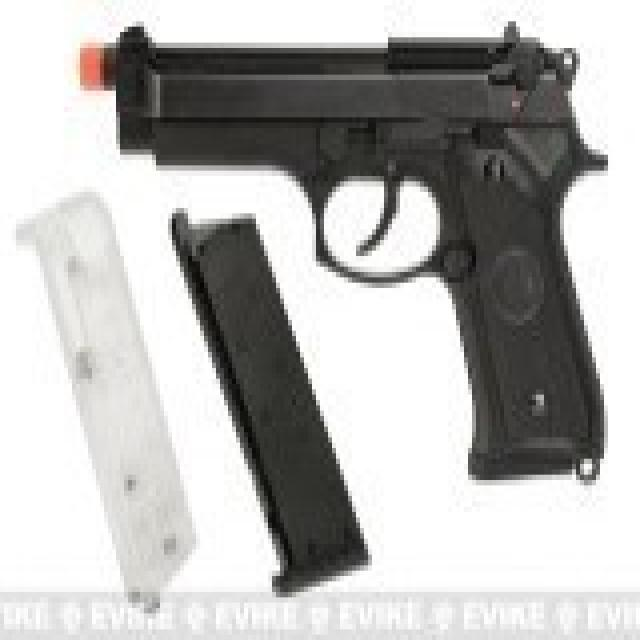Gun: (62, 22, 638, 587)
